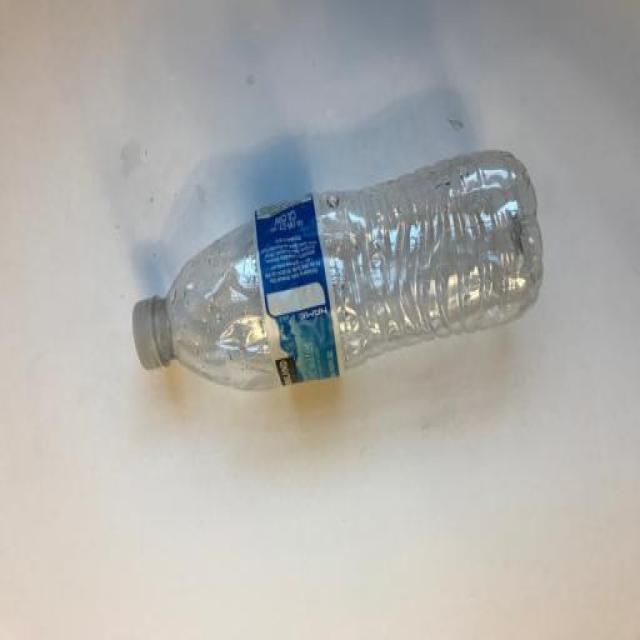chai: (134, 152, 542, 390)
